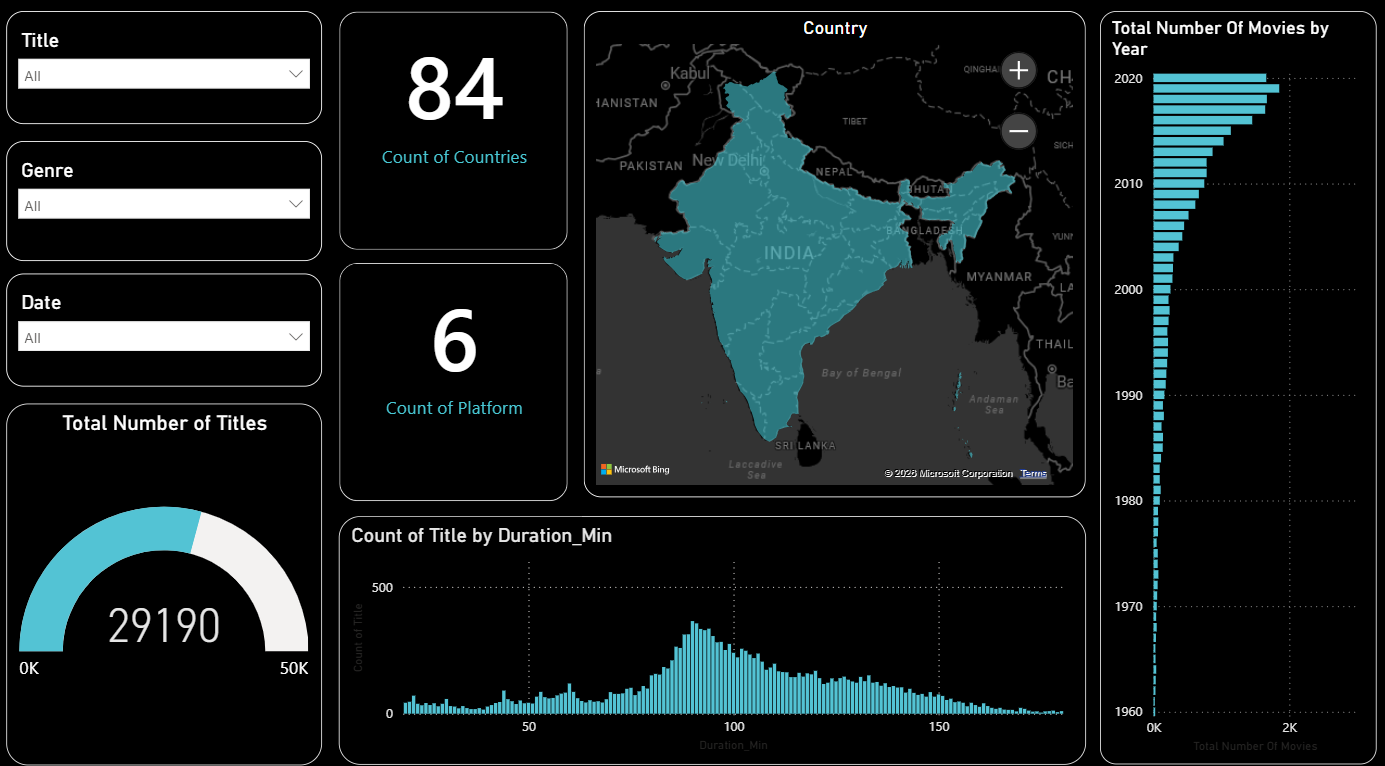

The dashboard page shown, as its layout file describes it:
{"tool":"powerbi","page":{"name":"Dashboard3","canvas":[1280,720],"ordinal":2},"visuals":[{"type":"slicer","fields":{"Values":["Fact_table.Title"]},"box":[10,14.3,290,104.3],"z":0},{"type":"slicer","fields":{"Values":["Dim_Genre.Genre"]},"box":[10,132.9,290,110],"z":1000},{"type":"slicer","fields":{"Values":["Fact_table.Release_Date"]},"box":[10,255.7,290,104.3],"z":2000},{"type":"gauge","title":"Total Number of Titles","fields":{"Y":["Fact_table.Total_titles"]},"box":[10,374.3,290,332.9],"z":3000},{"type":"columnChart","title":"Count Of Title By Duration Min","fields":{"Category":["Fact_table.Duration_Min"],"Y":["CountNonNull(Fact_table.Title)"]},"box":[315.7,478.6,687.1,228.6],"z":4000},{"type":"barChart","title":"Count Of Movies by Year","fields":{"Category":["Fact_table.Release_Year"],"Y":["Fact_table.Total Number Of Movies"]},"box":[1015.7,14.3,254.3,692.9],"z":5000},{"type":"filledMap","title":"Country","fields":{"Category":["Dim_Country.Country_Clean"]},"box":[541.4,14.3,461.4,447.1],"z":6000},{"type":"cardVisual","fields":{"Data":["Fact_table.Count of Countries","Count(Fact_table.Platform)"]},"box":[304.3,2.9,234.3,475.7],"z":7000}]}

Visuals, with their boxes in screenshot pixels (x1, y1, x2, y2), scaled from the page's 1280x720 canvas onto the 1385x766 screenshot:
slicer - Fact_table.Title: [left=11, top=15, right=325, bottom=126]
slicer - Dim_Genre.Genre: [left=11, top=141, right=325, bottom=258]
slicer - Fact_table.Release_Date: [left=11, top=272, right=325, bottom=383]
"Total Number of Titles" gauge: [left=11, top=398, right=325, bottom=752]
"Count Of Title By Duration Min" columnChart: [left=342, top=509, right=1085, bottom=752]
"Count Of Movies by Year" barChart: [left=1099, top=15, right=1374, bottom=752]
"Country" filledMap: [left=586, top=15, right=1085, bottom=491]
cardVisual - Fact_table.Count of Countries x Count(Fact_table.Platform): [left=329, top=3, right=583, bottom=509]
